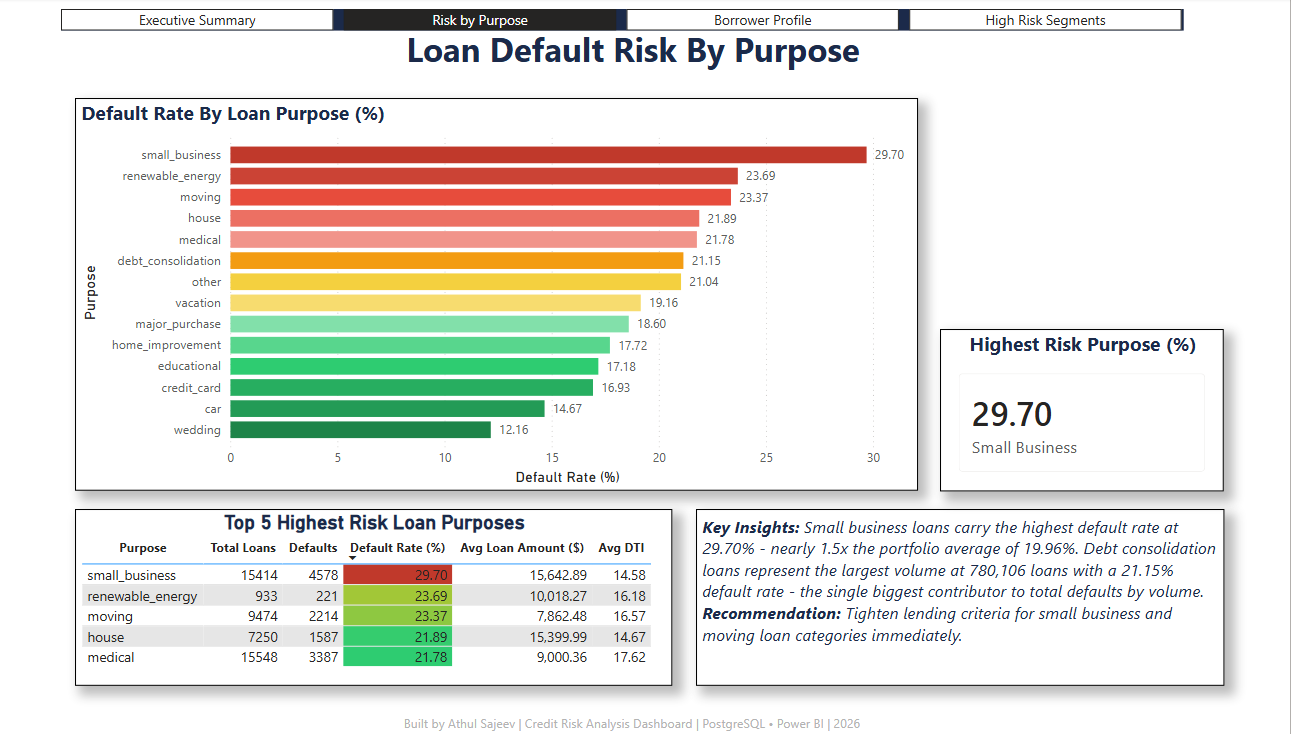

The page's visual inventory and layout, read from the dashboard file:
{"tool":"powerbi","page":{"name":"Risk by Purpose","canvas":[1280,720],"ordinal":1},"visuals":[{"type":"textbox","box":[406.6,22.4,465.9,81.7],"z":0},{"type":"clusteredBarChart","title":"Default Rate By Loan Purpose (%)","fields":{"Category":["query3_default_by_purpose.purpose"],"Y":["Sum(query3_default_by_purpose.default_rate_pct)"]},"box":[98.2,97.3,819.9,382.2],"z":1000},{"type":"tableEx","title":"Top 5 Highest Risk Loan Purposes ","fields":{"Values":["query3_default_by_purpose.purpose","query3_default_by_purpose.total_loans","query3_default_by_purpose.defaults","query3_default_by_purpose.default_rate_pct","query3_default_by_purpose.avg_loan_amount","query3_default_by_purpose.avg_dti"]},"box":[98.2,497,580.7,172.2],"z":2000},{"type":"textbox","box":[702.2,497,513.6,172.2],"z":3000},{"type":"cardVisual","title":"Highest Risk Purpose (%)","fields":{"Data":["Sum(query3_default_by_purpose.default_rate_pct)"]},"box":[939.6,321.9,276.2,157.6],"z":4000},{"type":"pageNavigator","box":[84.6,10.7,1092.3,21.4],"z":5000},{"type":"textbox","box":[0,690.6,1280,29.2],"z":6000}]}

Visuals, with their boxes in screenshot pixels (x1, y1, x2, y2), scaled from the page's 1280x720 canvas onto the 1291x734 screenshot:
textbox: x1=410, y1=23, x2=880, y2=106
"Default Rate By Loan Purpose (%)" clusteredBarChart: x1=99, y1=99, x2=926, y2=489
"Top 5 Highest Risk Loan Purposes " tableEx: x1=99, y1=507, x2=685, y2=682
textbox: x1=708, y1=507, x2=1226, y2=682
"Highest Risk Purpose (%)" cardVisual: x1=948, y1=328, x2=1226, y2=489
pageNavigator: x1=85, y1=11, x2=1187, y2=33
textbox: x1=0, y1=704, x2=1290, y2=733
